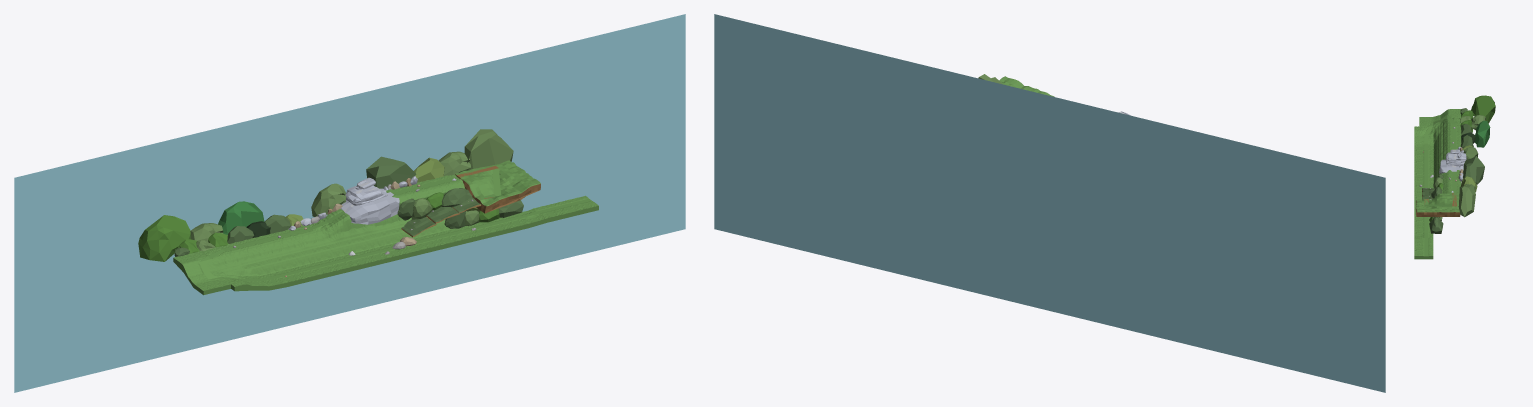
Rendered from 빽빽한숲_최종_배경.fbx.
3 renders of one model, left to right at view 1: azimuth 30°, elevation 25°; view 2: azimuth 150°, elevation 25°; view 3: azimuth 270°, elevation 25°, orthographic. The views are drawn at different scales.
Visible parts, largest first — view 1: Sky, Island_C_, Island_B, Mountain4.005, Mountain7.003, Rock_IslandC, Island_A, Mountain7.005, Mountain4.004, Mountain4.002, Rock_IslandB; view 2: Sky; view 3: Island_C_, Island_B, Mountain7.003, Mountain4.005, Mountain7.005, Island_A, Mountain4.004, Rock_IslandB, Mountain.004, Rock_IslandC, Mountain4.001, Mountain4.002 (+2 smaller).
Part boxes in pixels (x1=…): Sky: x1=14, y1=14, x2=685, y2=392; Island_C_: x1=173, y1=195, x2=598, y2=295; Island_B: x1=455, y1=160, x2=540, y2=213; Mountain4.005: x1=138, y1=215, x2=190, y2=261; Mountain7.003: x1=464, y1=129, x2=513, y2=170; Rock_IslandC: x1=341, y1=188, x2=399, y2=224; Island_A: x1=386, y1=174, x2=465, y2=205; Mountain7.005: x1=366, y1=156, x2=416, y2=188; Mountain4.004: x1=218, y1=201, x2=264, y2=234; Mountain4.002: x1=311, y1=183, x2=346, y2=216; Rock_IslandB: x1=345, y1=185, x2=387, y2=205; Sky: x1=714, y1=14, x2=1385, y2=392; Island_C_: x1=1414, y1=109, x2=1461, y2=259; Island_B: x1=1415, y1=193, x2=1460, y2=216; Mountain7.003: x1=1458, y1=184, x2=1475, y2=217; Mountain4.005: x1=1471, y1=95, x2=1495, y2=123; Mountain7.005: x1=1463, y1=156, x2=1484, y2=184; Island_A: x1=1442, y1=170, x2=1461, y2=193; Mountain4.004: x1=1475, y1=120, x2=1490, y2=147; Rock_IslandB: x1=1446, y1=152, x2=1466, y2=167; Mountain.004: x1=1429, y1=217, x2=1443, y2=233; Rock_IslandC: x1=1439, y1=159, x2=1463, y2=173; Mountain4.001: x1=1471, y1=115, x2=1485, y2=130; Mountain4.002: x1=1463, y1=147, x2=1478, y2=159.
Size of the model in its own units: 17741 by 92154 by 28212.
